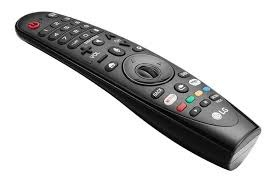remote control: (8, 5, 264, 173)
